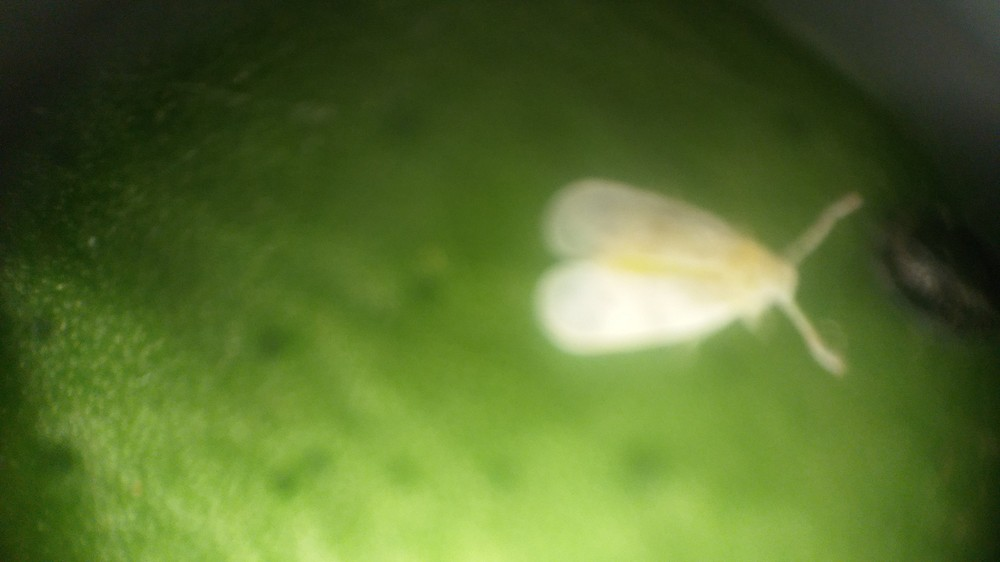Mosca Blanca: (510, 139, 875, 406)
